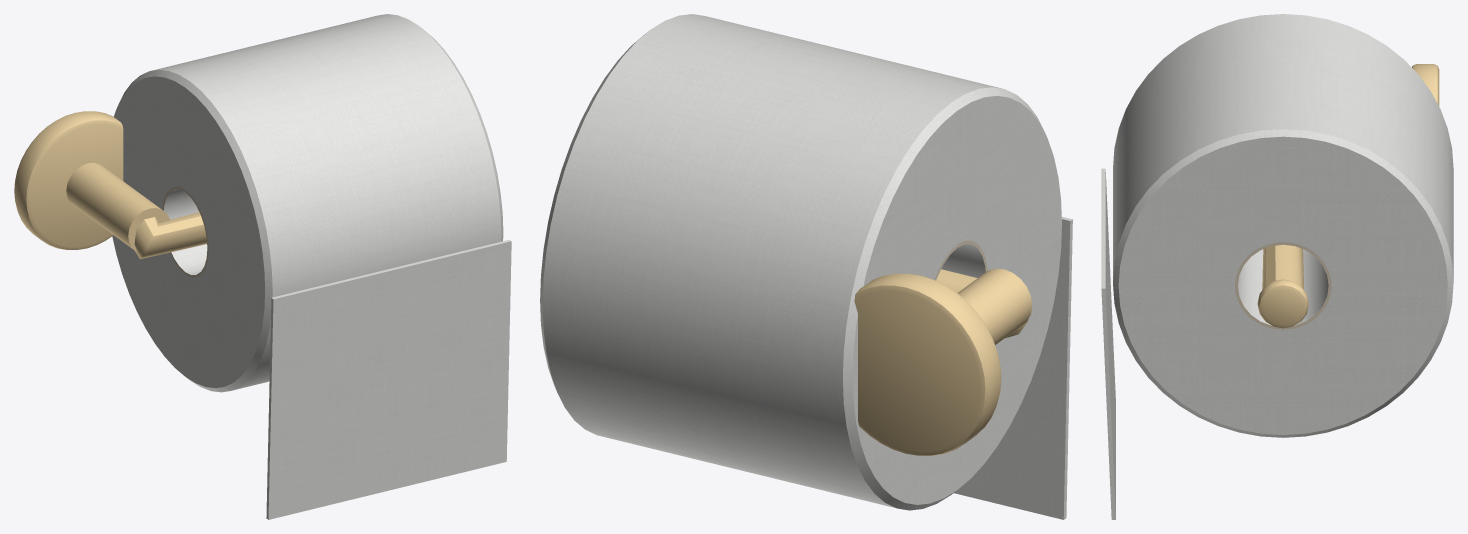
File: portarrollo-laton-v2.gltf
3 renders of one model, left to right at view 1: azimuth 30°, elevation 25°; view 2: azimuth 150°, elevation 25°; view 3: azimuth 270°, elevation 25°, orthographic. The views are drawn at different scales.
Visible parts, largest first — view 1: portarrollo-laton__p_rollo, portarrollo-laton__m_laton; view 2: portarrollo-laton__p_rollo, portarrollo-laton__m_laton; view 3: portarrollo-laton__p_rollo, portarrollo-laton__m_laton, portarrollo-laton__p_libro2.
Boxes of the visible parts, <box> form: portarrollo-laton__p_rollo: <box>112,14,511,519</box>; portarrollo-laton__m_laton: <box>14,111,206,259</box>; portarrollo-laton__p_rollo: <box>540,14,1072,519</box>; portarrollo-laton__m_laton: <box>854,268,1032,455</box>; portarrollo-laton__p_rollo: <box>1101,14,1453,519</box>; portarrollo-laton__m_laton: <box>1257,64,1439,328</box>; portarrollo-laton__p_libro2: <box>1235,242,1331,329</box>.
Size of the model in its own units: 0.159 by 0.151 by 0.124.
Materials: 3 (1 with a texture image).
